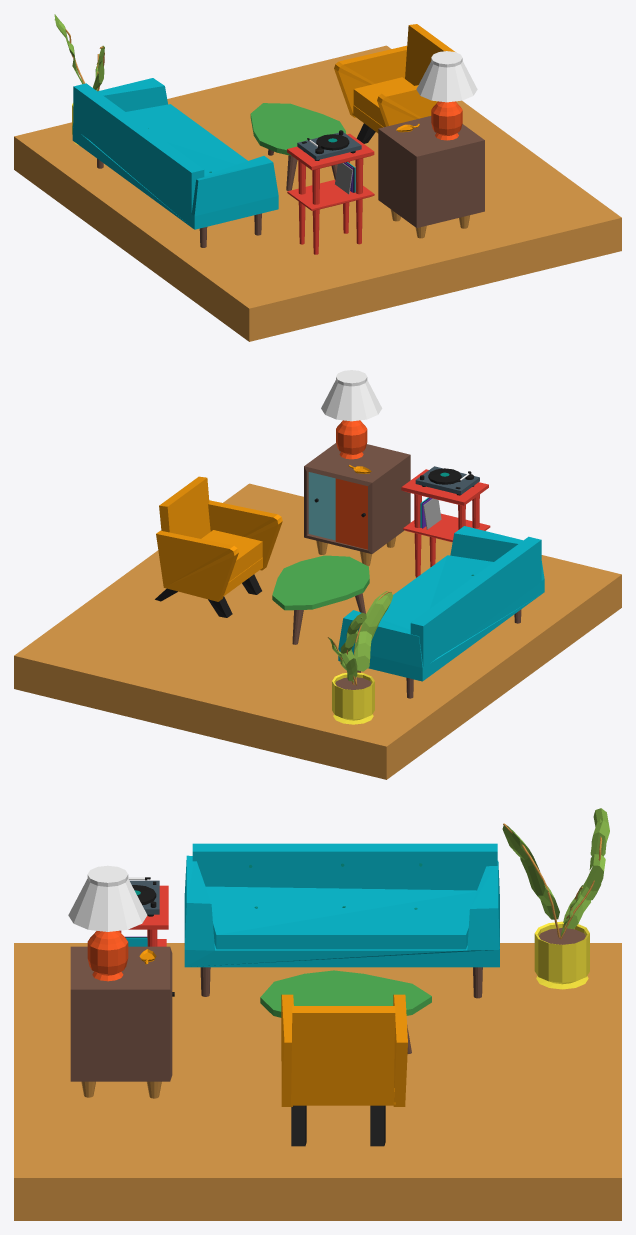
The model's file is scene_7OVSJHVs1V.glb.
The picture shows the model from 3 angles, top to bottom: view 1: azimuth 30°, elevation 25°; view 2: azimuth 150°, elevation 25°; view 3: azimuth 270°, elevation 25°; orthographic projection. The views are drawn at different scales.
Visible parts, largest first — view 1: group334299455, group1441515633, group1121205919, group1654500908, group1080570755, group620060771, group559109579, group1849340136, group620222008, group656575835, group821122676; view 2: group334299455, group1441515633, group1121205919, group620060771, group821122676, group1080570755, group1654500908, group559109579, group1849340136, group620222008, group656575835; view 3: group334299455, group1441515633, group1121205919, group1849340136, group821122676, group1080570755, group620060771, group559109579, group1654500908, group656575835, group1054108634, group2068755025.
Part boxes in pixels (x1,y1,x2,y2): group334299455: [14, 45, 621, 341]; group1441515633: [72, 78, 278, 247]; group1121205919: [378, 51, 484, 238]; group1654500908: [287, 133, 374, 254]; group1080570755: [250, 103, 345, 155]; group620060771: [334, 45, 407, 117]; group559109579: [377, 85, 437, 126]; group1849340136: [405, 24, 454, 85]; group620222008: [353, 77, 413, 126]; group656575835: [297, 130, 361, 160]; group821122676: [54, 14, 104, 144]; group334299455: [14, 483, 621, 779]; group1441515633: [338, 526, 544, 698]; group1121205919: [304, 370, 410, 566]; group620060771: [156, 530, 238, 601]; group821122676: [327, 590, 392, 724]; group1080570755: [272, 555, 369, 610]; group1654500908: [401, 469, 490, 577]; group559109579: [208, 500, 282, 570]; group1849340136: [159, 476, 210, 538]; group620222008: [201, 530, 262, 582]; group656575835: [415, 466, 479, 495]; group334299455: [14, 943, 621, 1220]; group1441515633: [184, 843, 499, 998]; group1121205919: [68, 865, 174, 1098]; group1849340136: [291, 1006, 395, 1105]; group821122676: [502, 808, 609, 989]; group1080570755: [260, 970, 431, 1017]; group620060771: [393, 994, 407, 1106]; group559109579: [281, 994, 293, 1106]; group1654500908: [119, 885, 168, 946]; group656575835: [128, 877, 159, 916]; group1054108634: [370, 1105, 385, 1146]; group2068755025: [291, 1105, 306, 1146].
Bounding box in the file's own units: 4.92 × 2.53 × 5.38.
